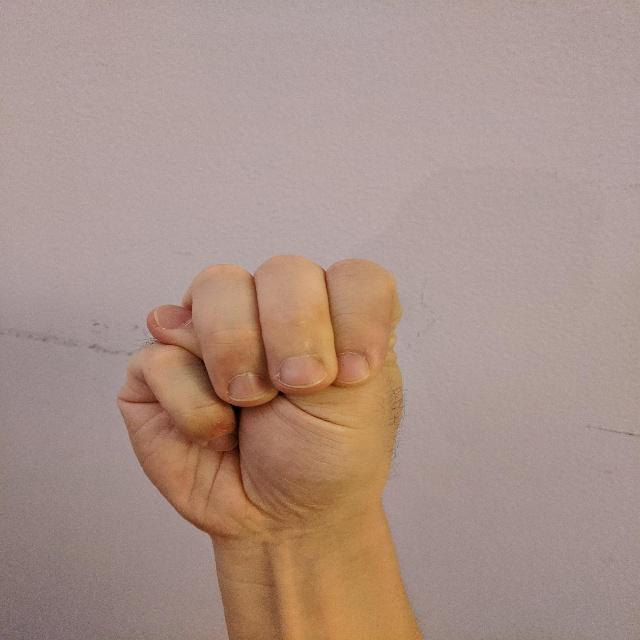M: (105, 249, 397, 541)
